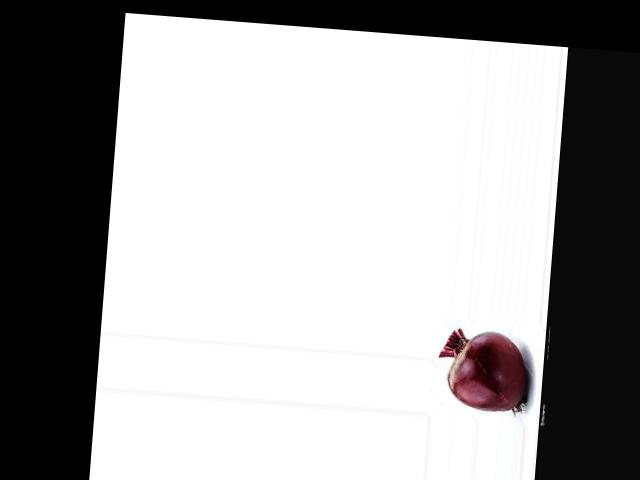beet: (435, 327, 530, 413)
